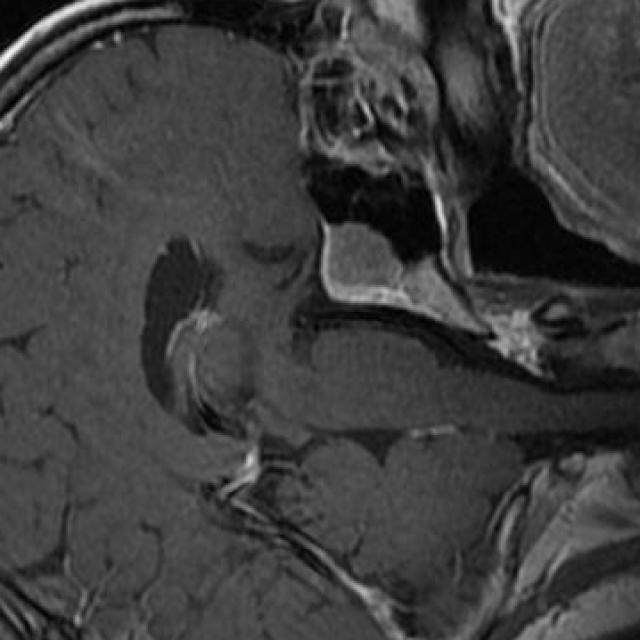pituitary: (328, 226, 401, 283)
